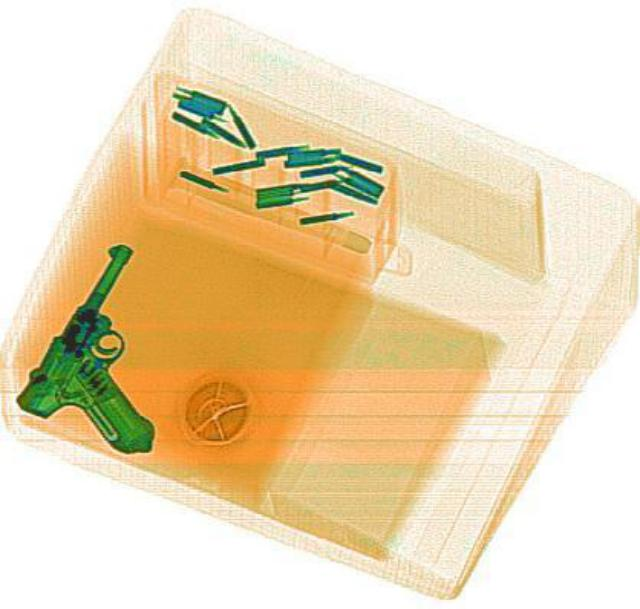Gun: (2, 237, 246, 466)
